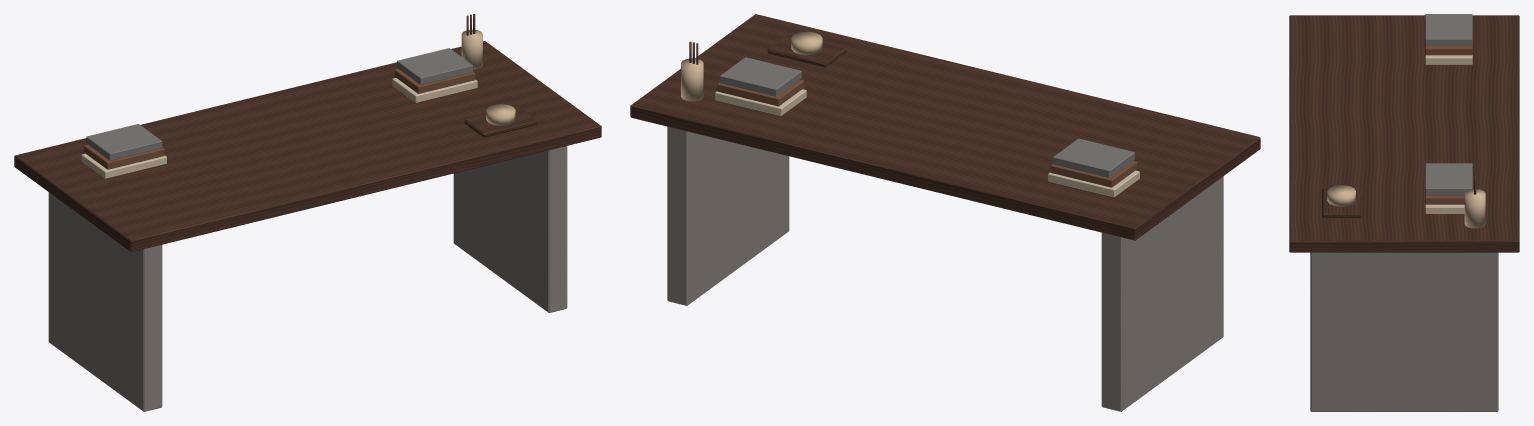
File: desk.glb
The picture shows the model from 3 angles, left to right: view 1: azimuth 30°, elevation 25°; view 2: azimuth 150°, elevation 25°; view 3: azimuth 270°, elevation 25°; orthographic projection. The views are drawn at different scales.
Parts seen in each view (by area): view 1: Thin flat walnut desktop, Wide brushed stainless slab leg, Wide brushed stainless slab leg.001, Horizontal book.002, Horizontal book.005, Small walnut tray, Horizontal book.003, Horizontal book, Horizontal book.004, Horizontal book.001, Pen cup, Ceramic bowl; view 2: Thin flat walnut desktop, Wide brushed stainless slab leg, Wide brushed stainless slab leg.001, Horizontal book.005, Horizontal book.002, Small walnut tray, Horizontal book, Horizontal book.003, Pen cup, Horizontal book.004, Horizontal book.001, Ceramic bowl; view 3: Thin flat walnut desktop, Wide brushed stainless slab leg.001, Horizontal book.005, Horizontal book.002, Pen cup, Small walnut tray, Ceramic bowl, Horizontal book, Horizontal book.001, Horizontal book.003, Horizontal book.004.
Part boxes in pixels (x1,y1,x2,y2): Thin flat walnut desktop: (14,41,601,251); Wide brushed stainless slab leg: (48,192,162,411); Wide brushed stainless slab leg.001: (453,146,567,312); Horizontal book.002: (86,124,162,160); Horizontal book.005: (397,48,472,84); Small walnut tray: (464,106,537,137); Horizontal book.003: (392,78,477,102); Horizontal book: (81,153,166,178); Horizontal book.004: (394,69,475,93); Horizontal book.001: (84,144,164,169); Pen cup: (461,29,482,69); Ceramic bowl: (486,104,515,125); Thin flat walnut desktop: (630,14,1260,240); Wide brushed stainless slab leg: (1101,176,1223,411); Wide brushed stainless slab leg.001: (667,126,789,305); Horizontal book.005: (720,57,801,96); Horizontal book.002: (1053,138,1134,177); Small walnut tray: (767,34,846,67); Horizontal book: (1048,170,1139,197); Horizontal book.003: (715,89,806,115); Pen cup: (681,58,703,101); Horizontal book.004: (717,79,804,106); Horizontal book.001: (1050,161,1137,187); Ceramic bowl: (791,31,822,54); Thin flat walnut desktop: (1289,15,1519,252); Wide brushed stainless slab leg.001: (1310,252,1498,411); Horizontal book.005: (1425,163,1472,195); Horizontal book.002: (1425,14,1472,45); Pen cup: (1464,189,1485,228); Small walnut tray: (1322,188,1361,217); Ceramic bowl: (1327,185,1355,206); Horizontal book: (1425,55,1472,64); Horizontal book.001: (1425,46,1472,55); Horizontal book.003: (1425,204,1464,213); Horizontal book.004: (1425,195,1464,204).
Bounding box in the file's own units: 2.05 × 0.98 × 0.88.
9 materials, 2 textured.
